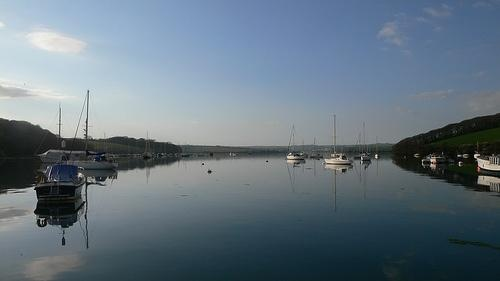boat: (36, 90, 120, 180), (35, 90, 99, 165), (34, 162, 89, 205), (323, 116, 354, 165), (283, 125, 309, 162), (475, 150, 500, 174), (359, 126, 373, 163), (308, 137, 325, 160), (430, 151, 450, 166)
